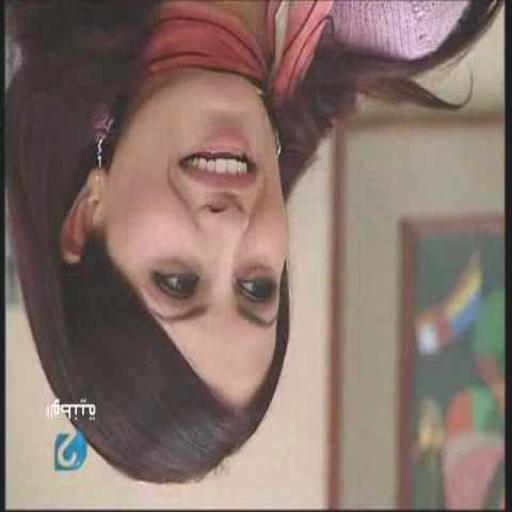Dalanda: (62, 70, 288, 407)
